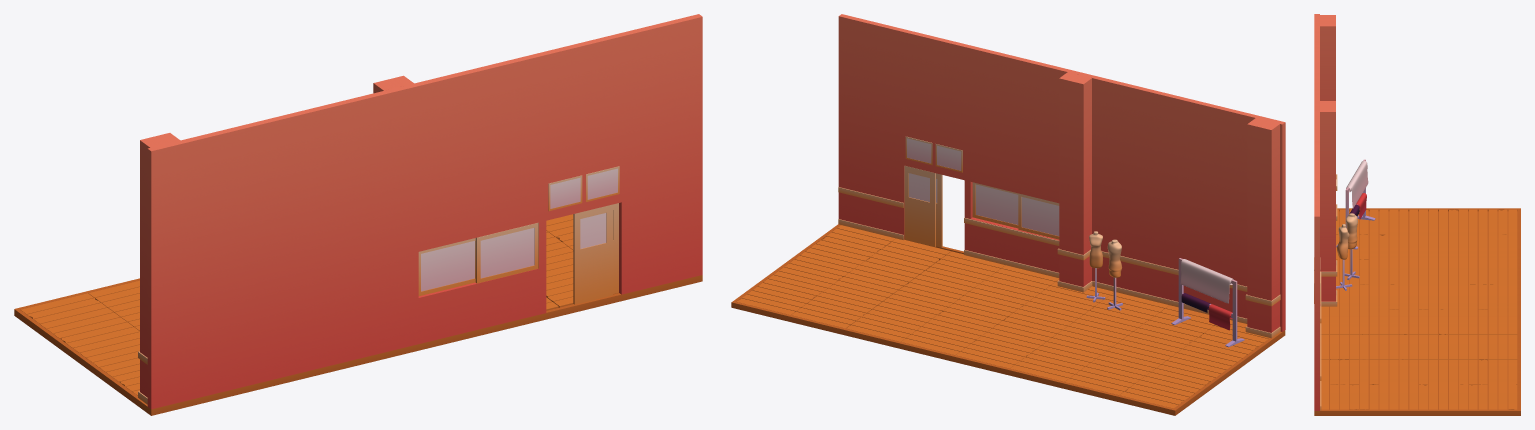
The model's file is Corredor_4.fbx.
The picture shows the model from 3 angles, left to right: view 1: azimuth 30°, elevation 25°; view 2: azimuth 150°, elevation 25°; view 3: azimuth 270°, elevation 25°; orthographic projection. The views are drawn at different scales.
Parts seen in each view (by area): view 1: Paredes.002, Chão.003, Chão.002, Janela, Portas.003, Coluna 1.002, Paredes.005; view 2: Paredes.002, Chão.003, Coluna 1.002, Chão.002, Plane.019, Janela, Portas.003, Plane.021, Paredes.005, Plane.018; view 3: Chão.003, Chão.002, Coluna 1.002, Paredes.002, Plane.019, Plane.021, Manequim 2, Manequim 1, Plane.018.
Part boxes in pixels (x1,y1,x2,y2): Paredes.002: (147,14,702,409); Chão.003: (20,214,618,395); Chão.002: (14,275,702,415); Janela: (418,222,538,296); Portas.003: (573,203,618,304); Coluna 1.002: (140,75,413,397); Paredes.005: (548,166,619,211); Paredes.002: (838,14,1285,331); Chão.003: (737,225,1269,408); Coluna 1.002: (1059,72,1279,332); Chão.002: (731,224,1285,415); Plane.019: (838,187,1280,338); Janela: (972,182,1059,239); Portas.003: (904,165,942,247); Plane.021: (1180,259,1233,303); Paredes.005: (905,136,962,172); Plane.018: (1171,258,1244,347); Chão.003: (1320,209,1517,409); Chão.002: (1314,208,1520,415); Coluna 1.002: (1320,15,1335,305); Paredes.002: (1314,14,1319,410); Plane.019: (1320,174,1337,410); Plane.021: (1346,160,1368,208); Manequim 2: (1346,213,1357,249); Manequim 1: (1337,224,1349,259); Plane.018: (1336,159,1375,249).
Size of the model in its own units: 4159 by 1908 by 1793.
1 material, 1 textured.
